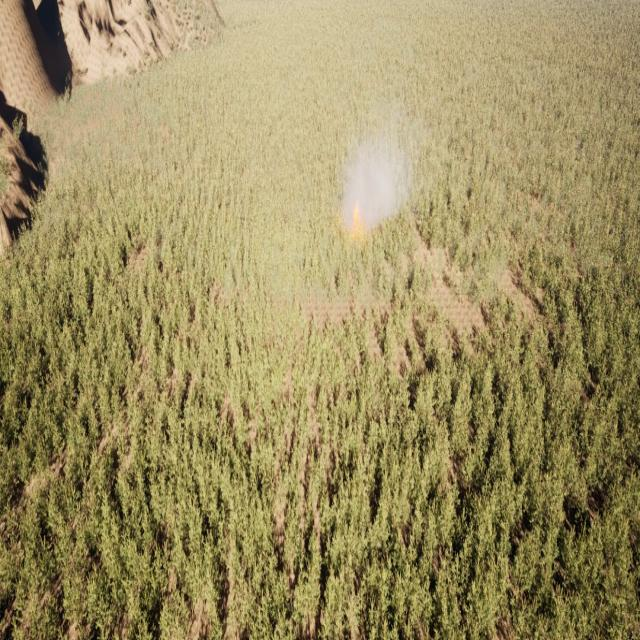fire: (351, 198, 366, 236)
smoke: (342, 110, 417, 231)
